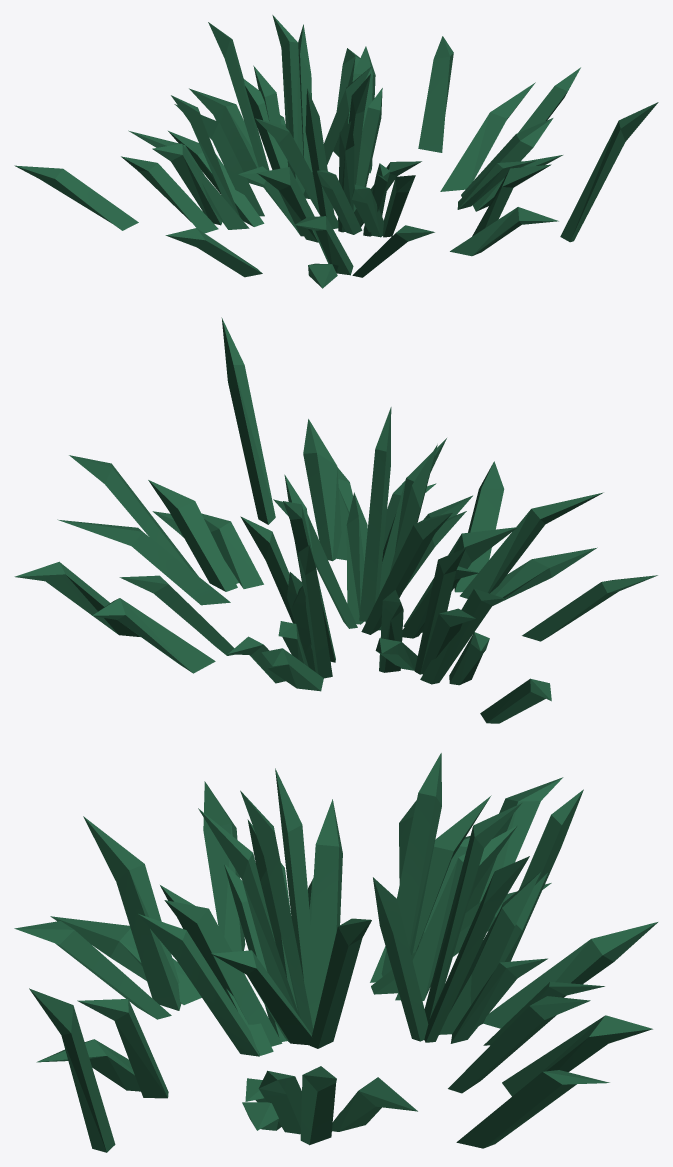
The model's file is Env_Grass_01.fbx.
The picture shows the model from 3 angles, top to bottom: view 1: azimuth 30°, elevation 25°; view 2: azimuth 150°, elevation 25°; view 3: azimuth 270°, elevation 25°; orthographic projection. The views are drawn at different scales.
Visible parts, largest first — view 1: Grass_01; view 2: Grass_01; view 3: Grass_01.
Boxes of the visible parts, box(x1,y1,x2,y2) form: Grass_01: box(14, 15, 658, 288); Grass_01: box(14, 317, 657, 723); Grass_01: box(14, 753, 657, 1152).
Size of the model in its own units: 877 by 288 by 676.
